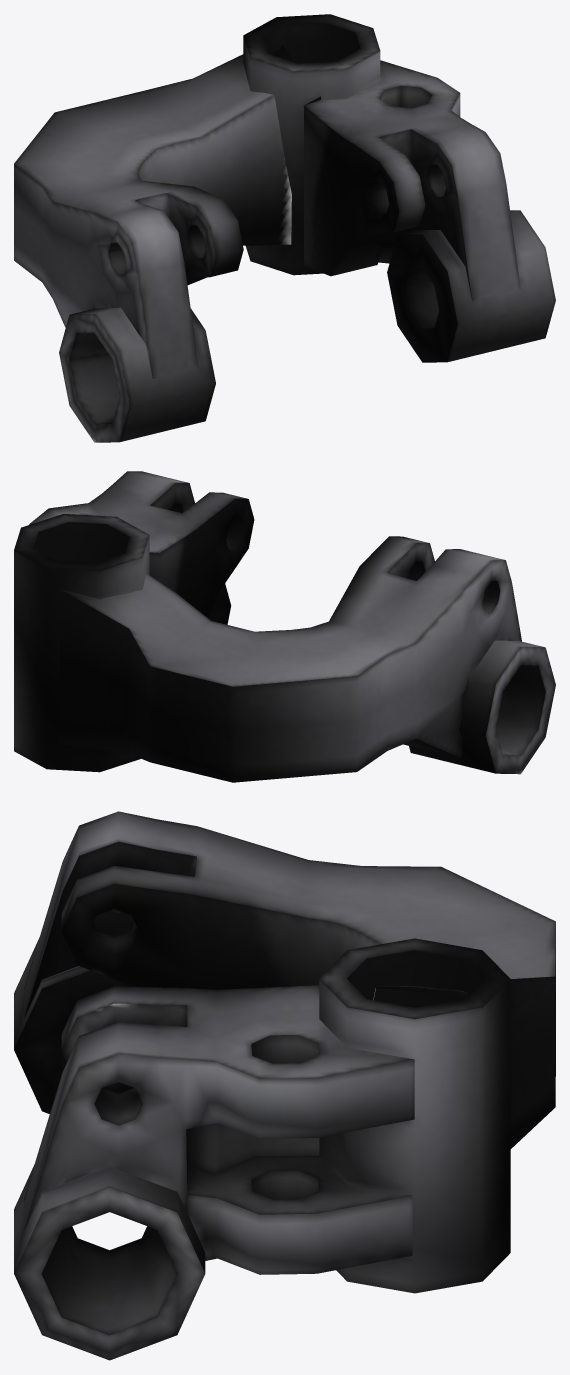
Rendered from l_lglut.dae.
The picture shows the model from 3 angles, top to bottom: view 1: azimuth 30°, elevation 25°; view 2: azimuth 150°, elevation 25°; view 3: azimuth 270°, elevation 25°; orthographic projection. The views are drawn at different scales.
Parts seen in each view (by area): view 1: l_lglut; view 2: l_lglut; view 3: l_lglut.
Boxes of the visible parts, box(x1,y1,x2,y2) form: l_lglut: box(14, 14, 555, 442); l_lglut: box(14, 471, 555, 782); l_lglut: box(14, 811, 555, 1360).
Size of the model in its own units: 0.1439 by 0.0762 by 0.1175.
1 material, 1 textured.
